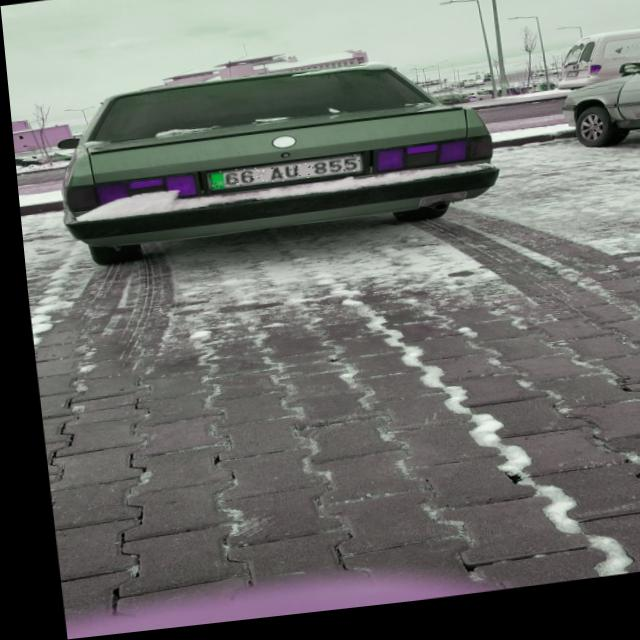license_plate: (203, 161, 359, 195)
